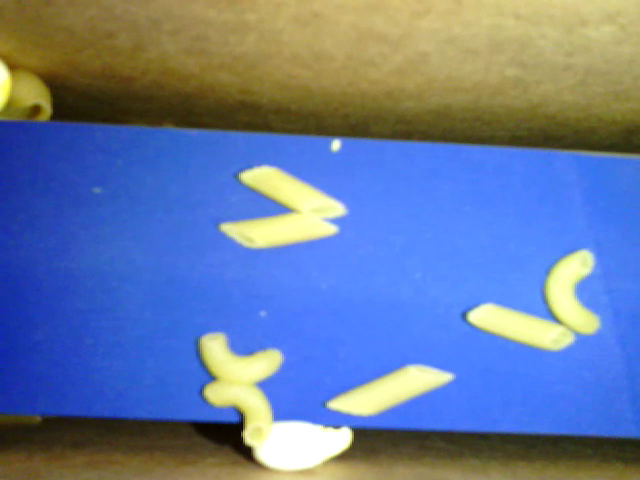elbow: (542, 244, 603, 341), (202, 377, 275, 445), (200, 331, 285, 382)
penne: (325, 359, 455, 420), (235, 161, 351, 221), (461, 300, 580, 353), (217, 212, 340, 252)
shell: (2, 69, 60, 126)
